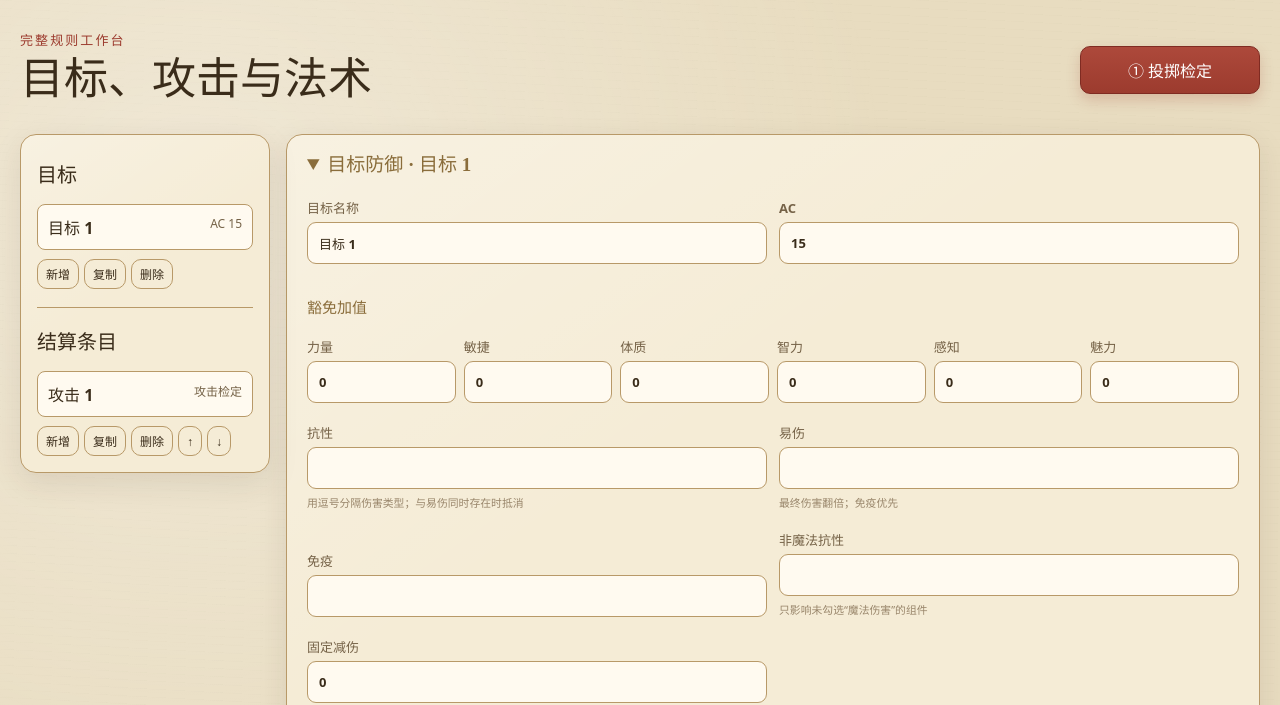
AdvancedWorkspace › always offers attack damage resolution when there are no riders
Click the button "① 投掷检定": (1170, 70) [1080,46,1260,94]
(page scrolled)
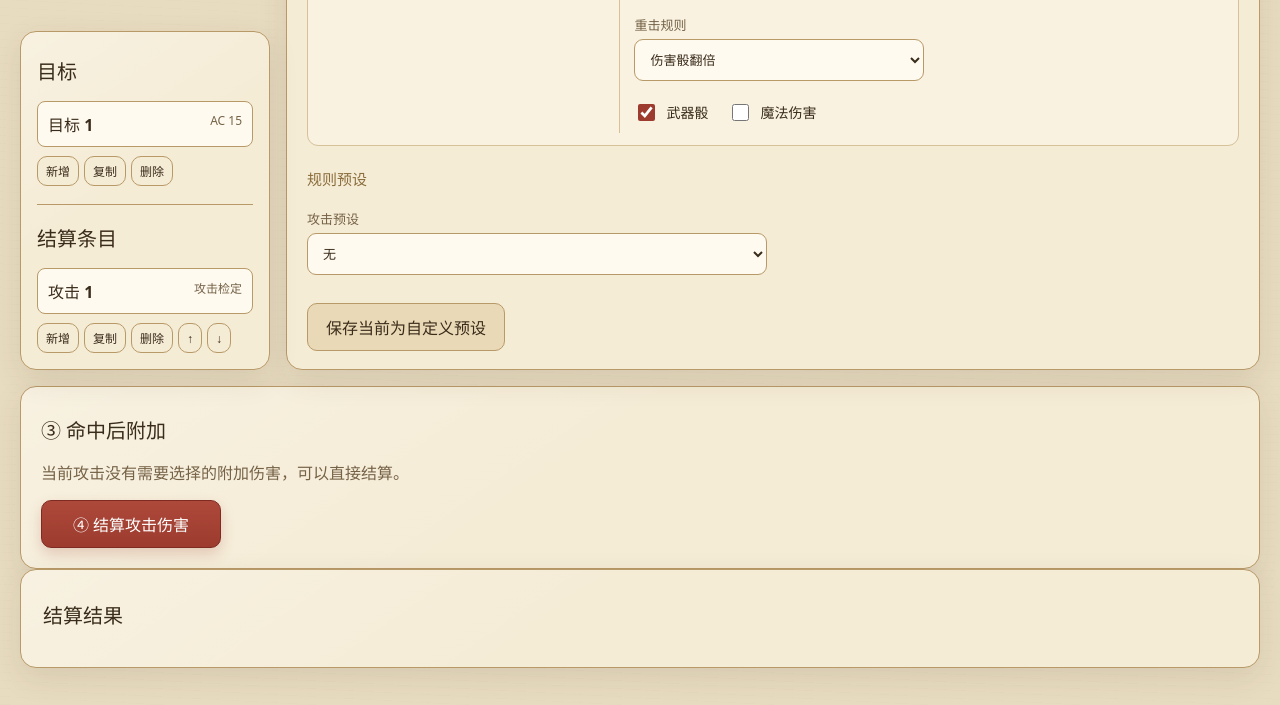
Result: the button "④ 结算攻击伤害" is shown at [41,500,221,548]
Result: the text "当前攻击没有需要选择的附加伤害，可以直接结算。" is shown at [41,462,409,484]
